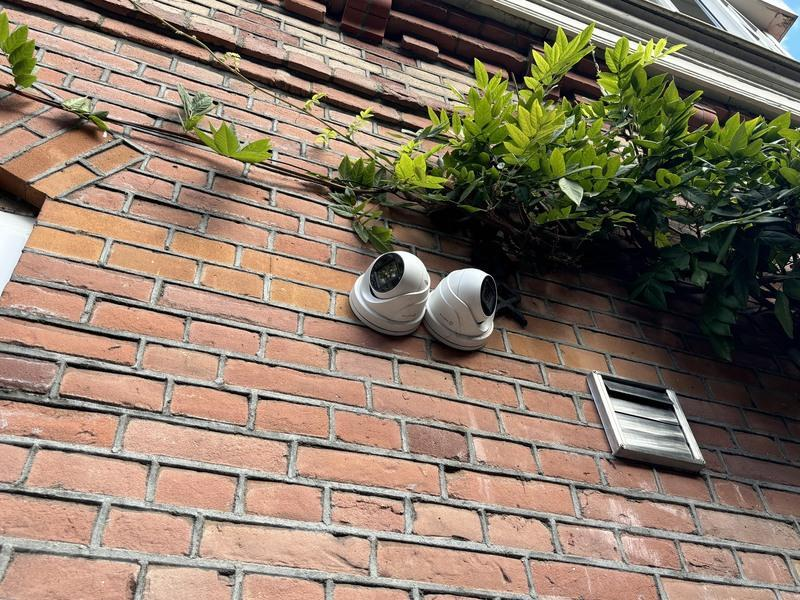turret: (336, 243, 426, 340), (431, 261, 501, 356)
